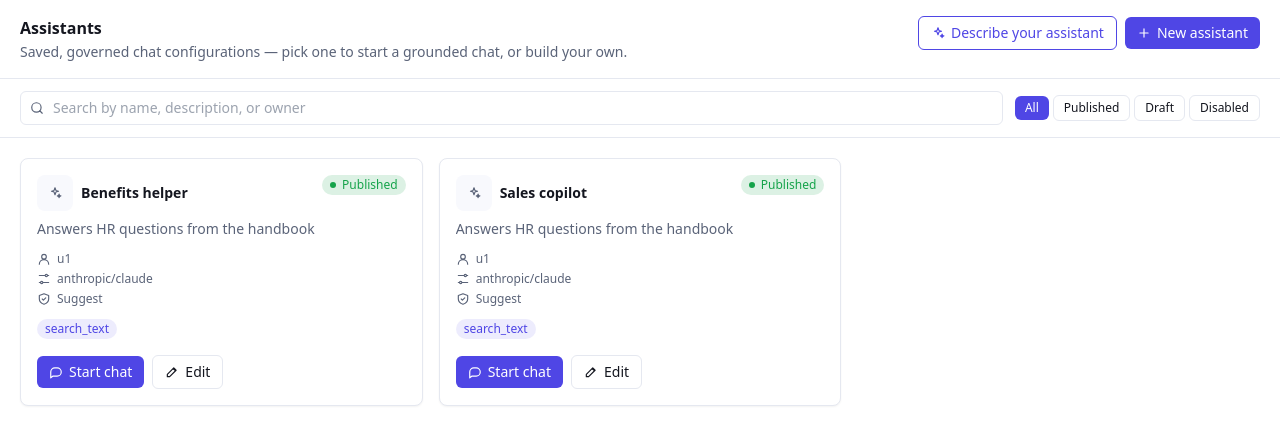
it: AssistantLibrary — states › filters by search query
Expected: the element "Benefits helper" is shown, [20,158,423,406]
Type "sales" into the search field named "search assistants" at (511, 108), box [20,91,1003,125]
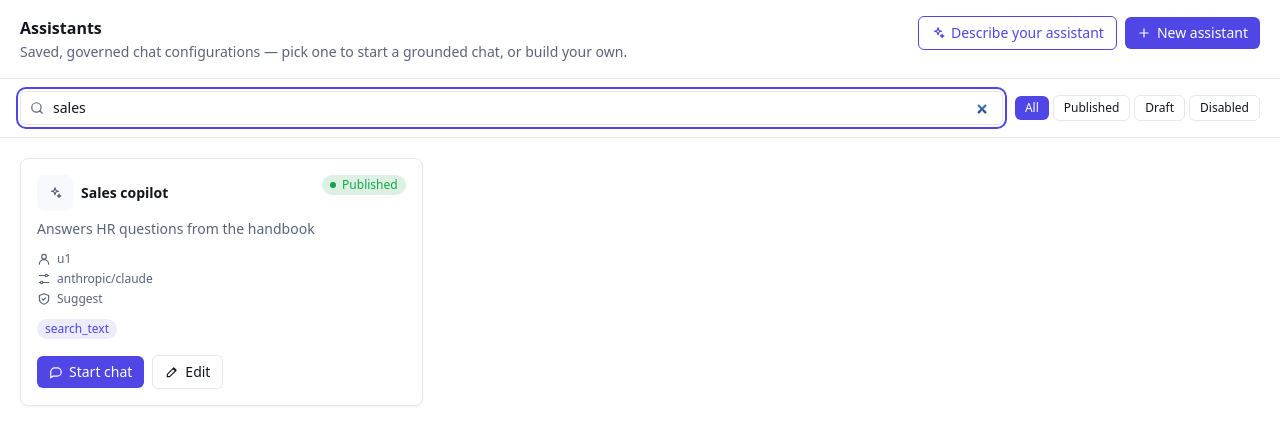
Expected: the element "Sales copilot" is shown, [20,158,423,406]
Expected: the heading "Benefits helper" is gone
